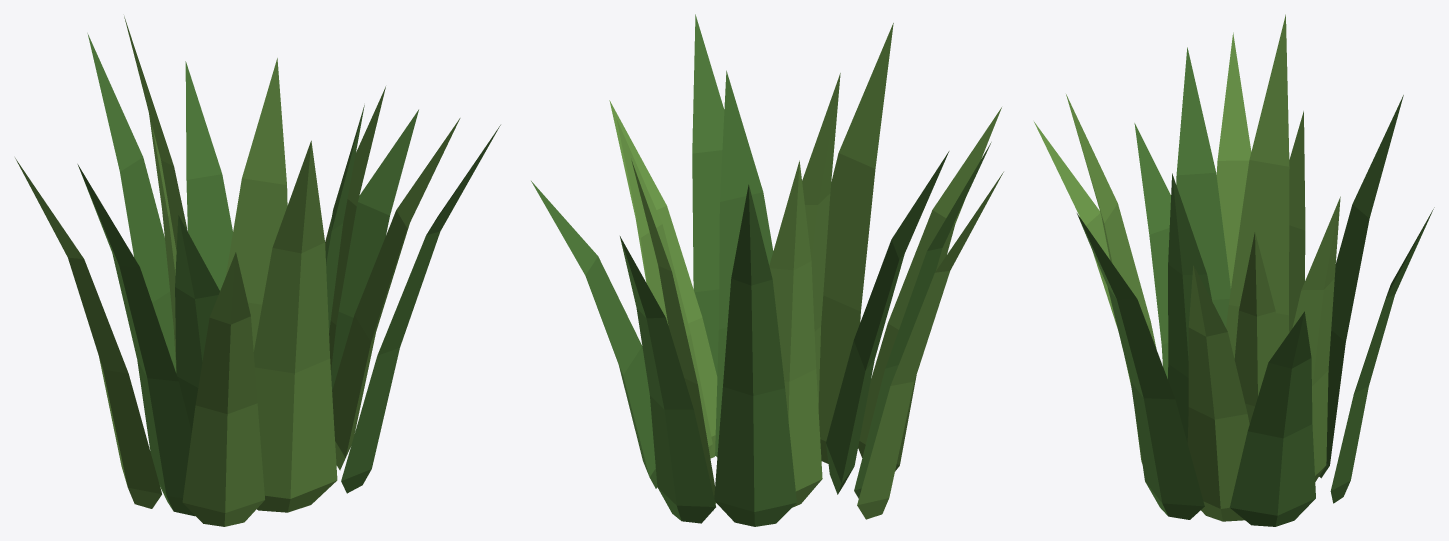
File: mdvl_nature_grass_01.glb
3 renders of one model, left to right at view 1: azimuth 30°, elevation 25°; view 2: azimuth 150°, elevation 25°; view 3: azimuth 270°, elevation 25°, orthographic. The views are drawn at different scales.
Parts seen in each view (by area): view 1: mdvl_nature_grass_01; view 2: mdvl_nature_grass_01; view 3: mdvl_nature_grass_01.
Part boxes in pixels (x1,y1,x2,y2): mdvl_nature_grass_01: [15, 16, 500, 526]; mdvl_nature_grass_01: [531, 14, 1003, 526]; mdvl_nature_grass_01: [1034, 14, 1434, 526].
Bounding box in the file's own units: 0.2975 × 0.2986 × 0.2555.
Materials: 1 (1 with a texture image).
